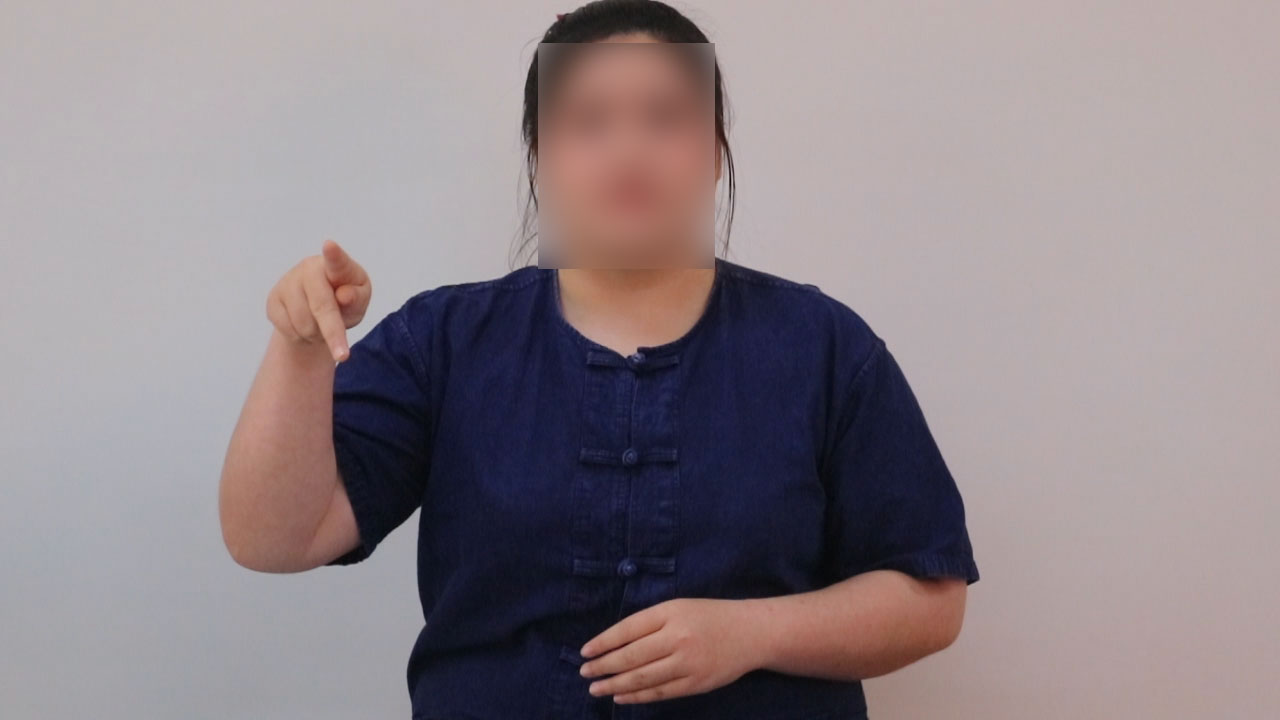por: (250, 218, 388, 373)
